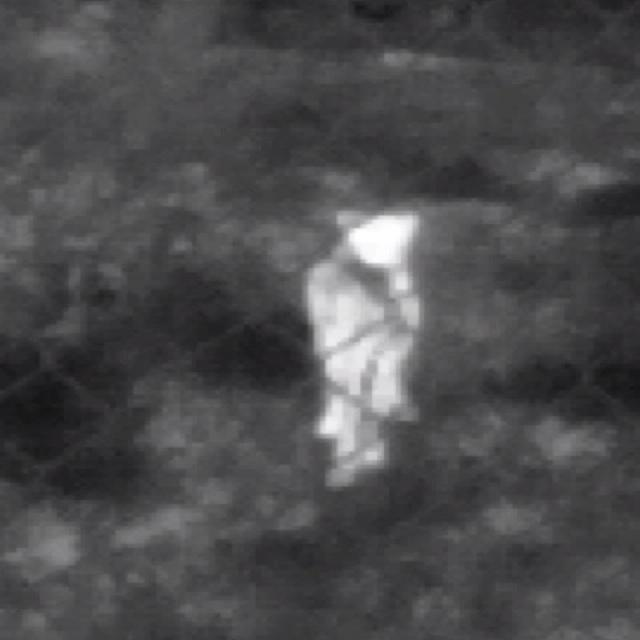cheetah: (309, 212, 419, 488)
